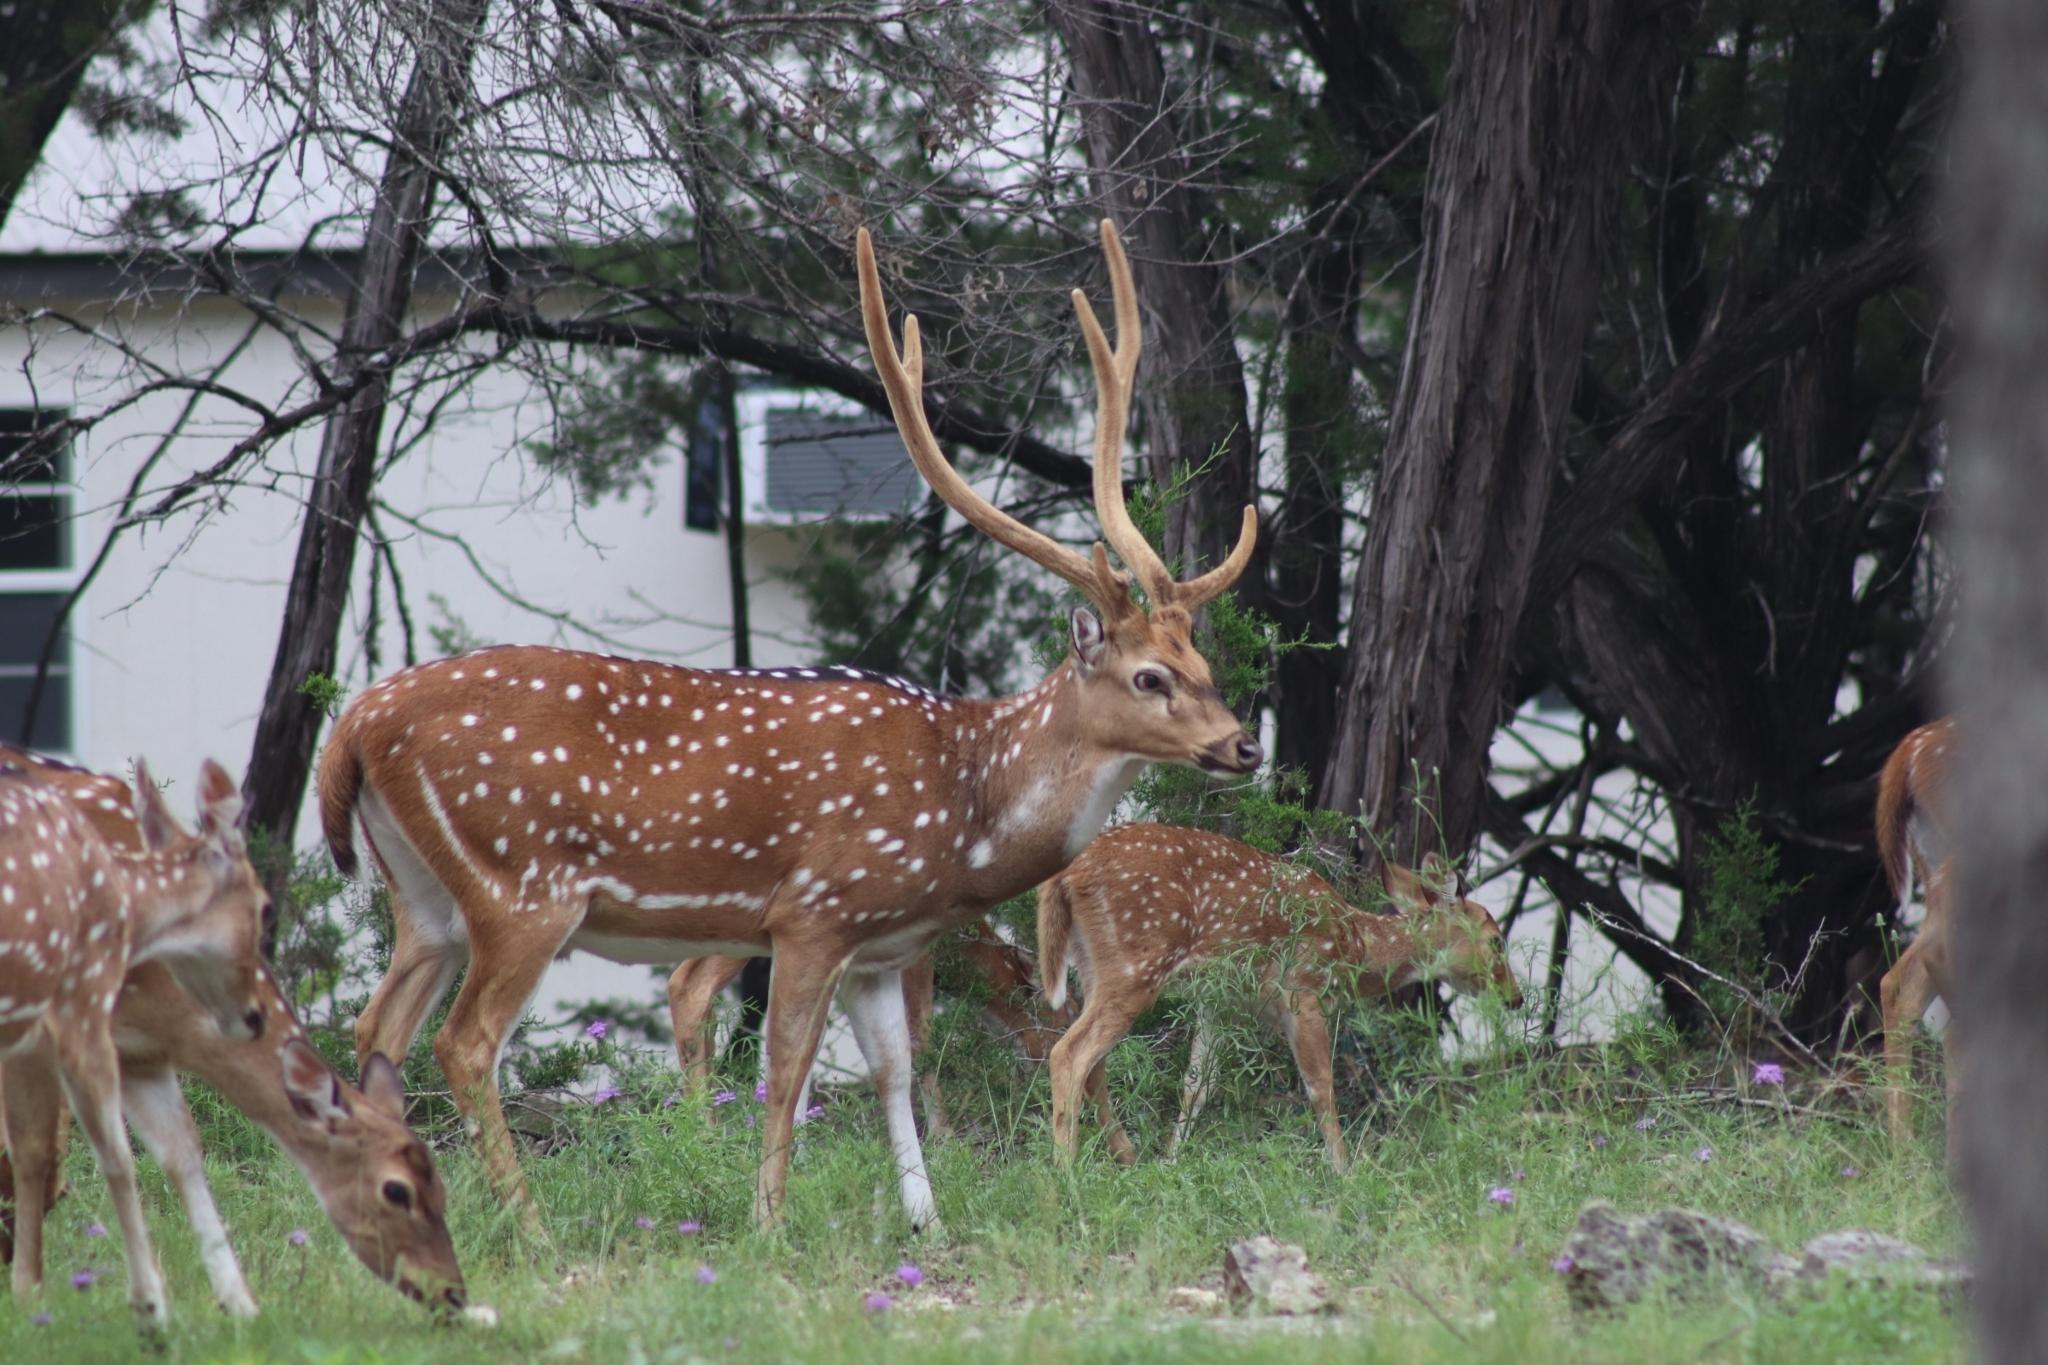Deer: (321, 219, 1259, 1223), (1038, 823, 1517, 1170), (0, 762, 268, 1322), (113, 961, 466, 1318)
